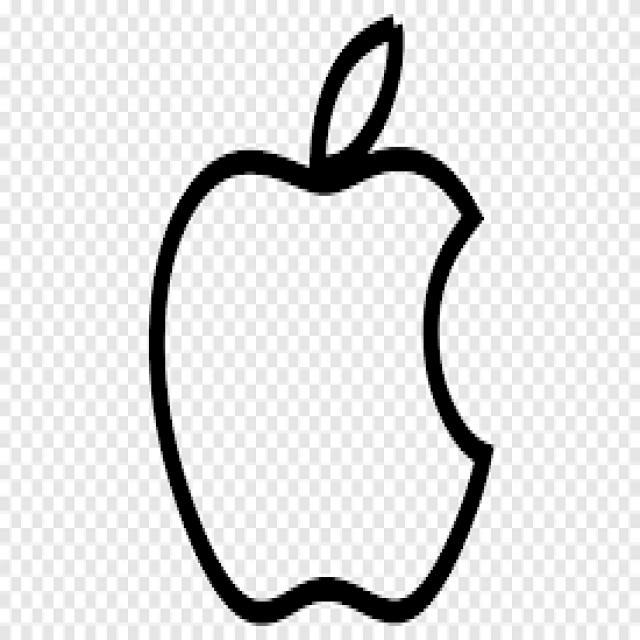apple: (131, 9, 509, 626)
